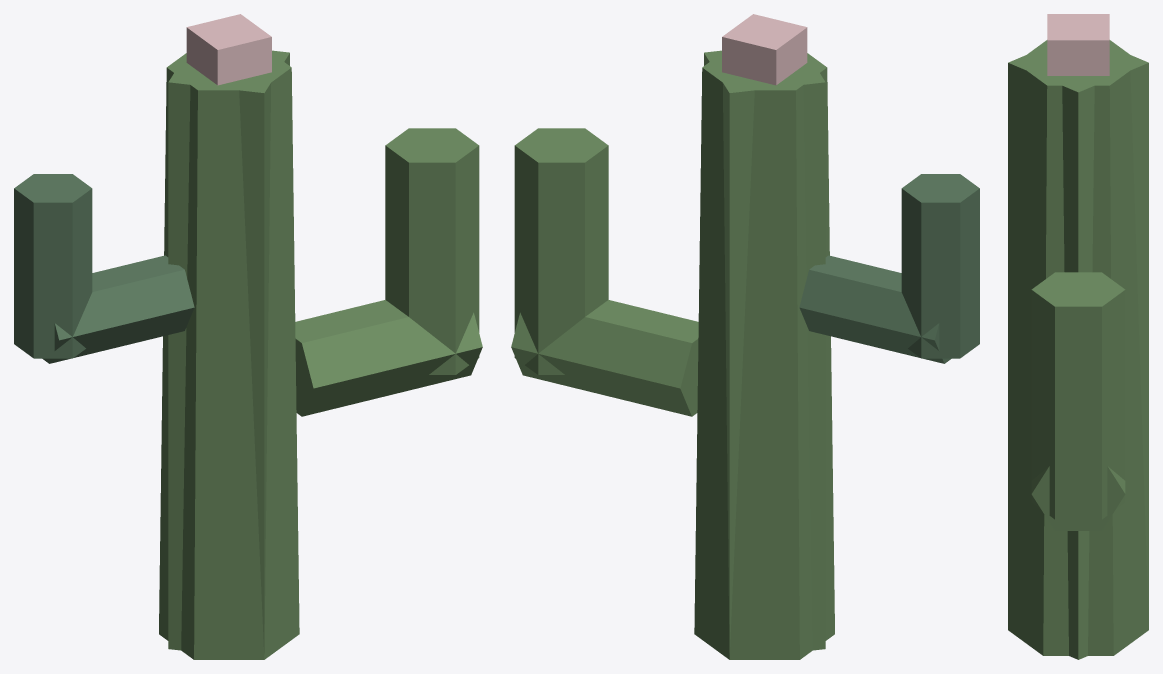
The model's file is cactus.glb.
The picture shows the model from 3 angles, left to right: view 1: azimuth 30°, elevation 25°; view 2: azimuth 150°, elevation 25°; view 3: azimuth 270°, elevation 25°; orthographic projection.
Visible parts, largest first — view 1: stem, far, arm1_up, arm1, arm2_up, arm2, detail_flower; view 2: stem, far, arm1_up, arm1, arm2_up, arm2, detail_flower; view 3: stem, arm1_up, far, detail_flower, arm1.
Boxes of the visible parts, box(x1,y1,x2,y2) form: stem: box(159, 53, 299, 659); far: box(168, 50, 289, 653); arm1_up: box(385, 128, 479, 374); arm1: box(295, 300, 482, 416); arm2_up: box(14, 174, 92, 358); arm2: box(42, 255, 194, 363); detail_flower: box(186, 14, 271, 85); stem: box(694, 53, 834, 659); far: box(704, 50, 825, 653); arm1_up: box(514, 128, 608, 374); arm1: box(511, 300, 698, 416); arm2_up: box(901, 174, 979, 358); arm2: box(799, 255, 951, 363); detail_flower: box(722, 14, 807, 85); stem: box(1008, 40, 1148, 655); arm1_up: box(1031, 272, 1125, 519); far: box(1008, 46, 1148, 659); detail_flower: box(1047, 14, 1109, 75); arm1: box(1031, 466, 1125, 530).
Bounding box in the file's own units: 0.6553 × 0.85 × 0.18.
